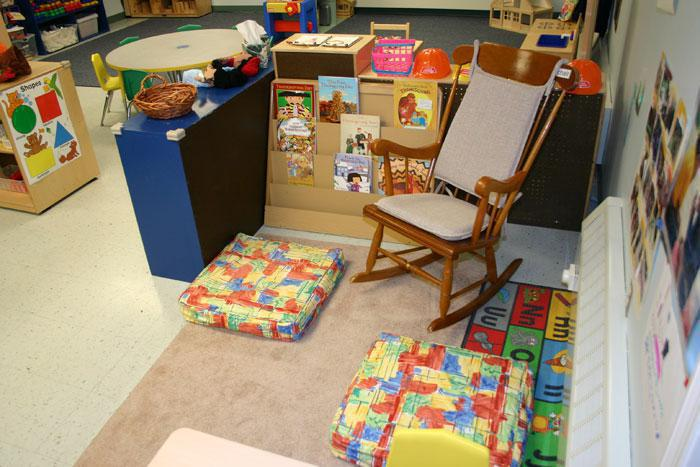Otro Obstaculo: (339, 325, 535, 463), (175, 227, 347, 340)
